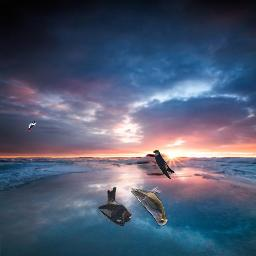Swallow: (131, 186, 168, 226), (98, 187, 132, 227), (153, 150, 181, 180)
Woodpecker: (26, 121, 36, 131)
